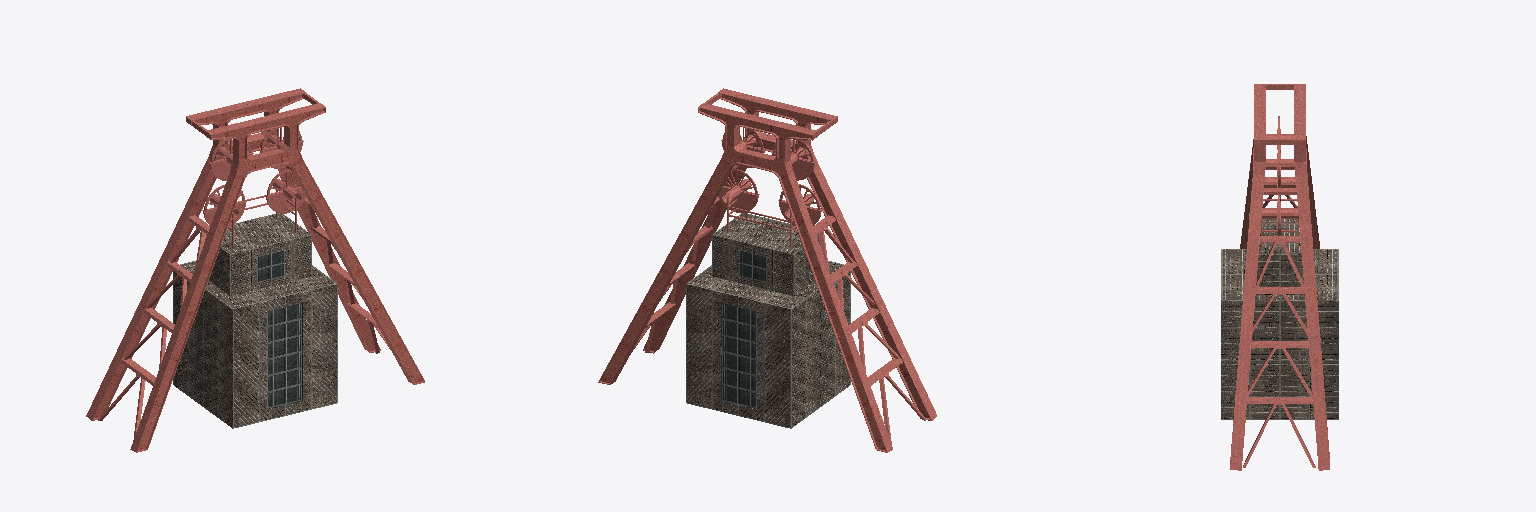
The picture shows the model from 3 angles: view 1: azimuth 30°, elevation 25°; view 2: azimuth 150°, elevation 25°; view 3: azimuth 270°, elevation 25°; orthographic projection.
Visible parts, largest first — view 1: Mesh; view 2: Mesh; view 3: Mesh.
Boxes of the visible parts, box(x1,y1,x2,y2) form: Mesh: box(86, 88, 424, 452); Mesh: box(598, 88, 936, 452); Mesh: box(1221, 84, 1338, 470).
Bounding box in the file's own units: 43.8 × 41.7 × 15.59.
Materials: 4 (4 with a texture image).